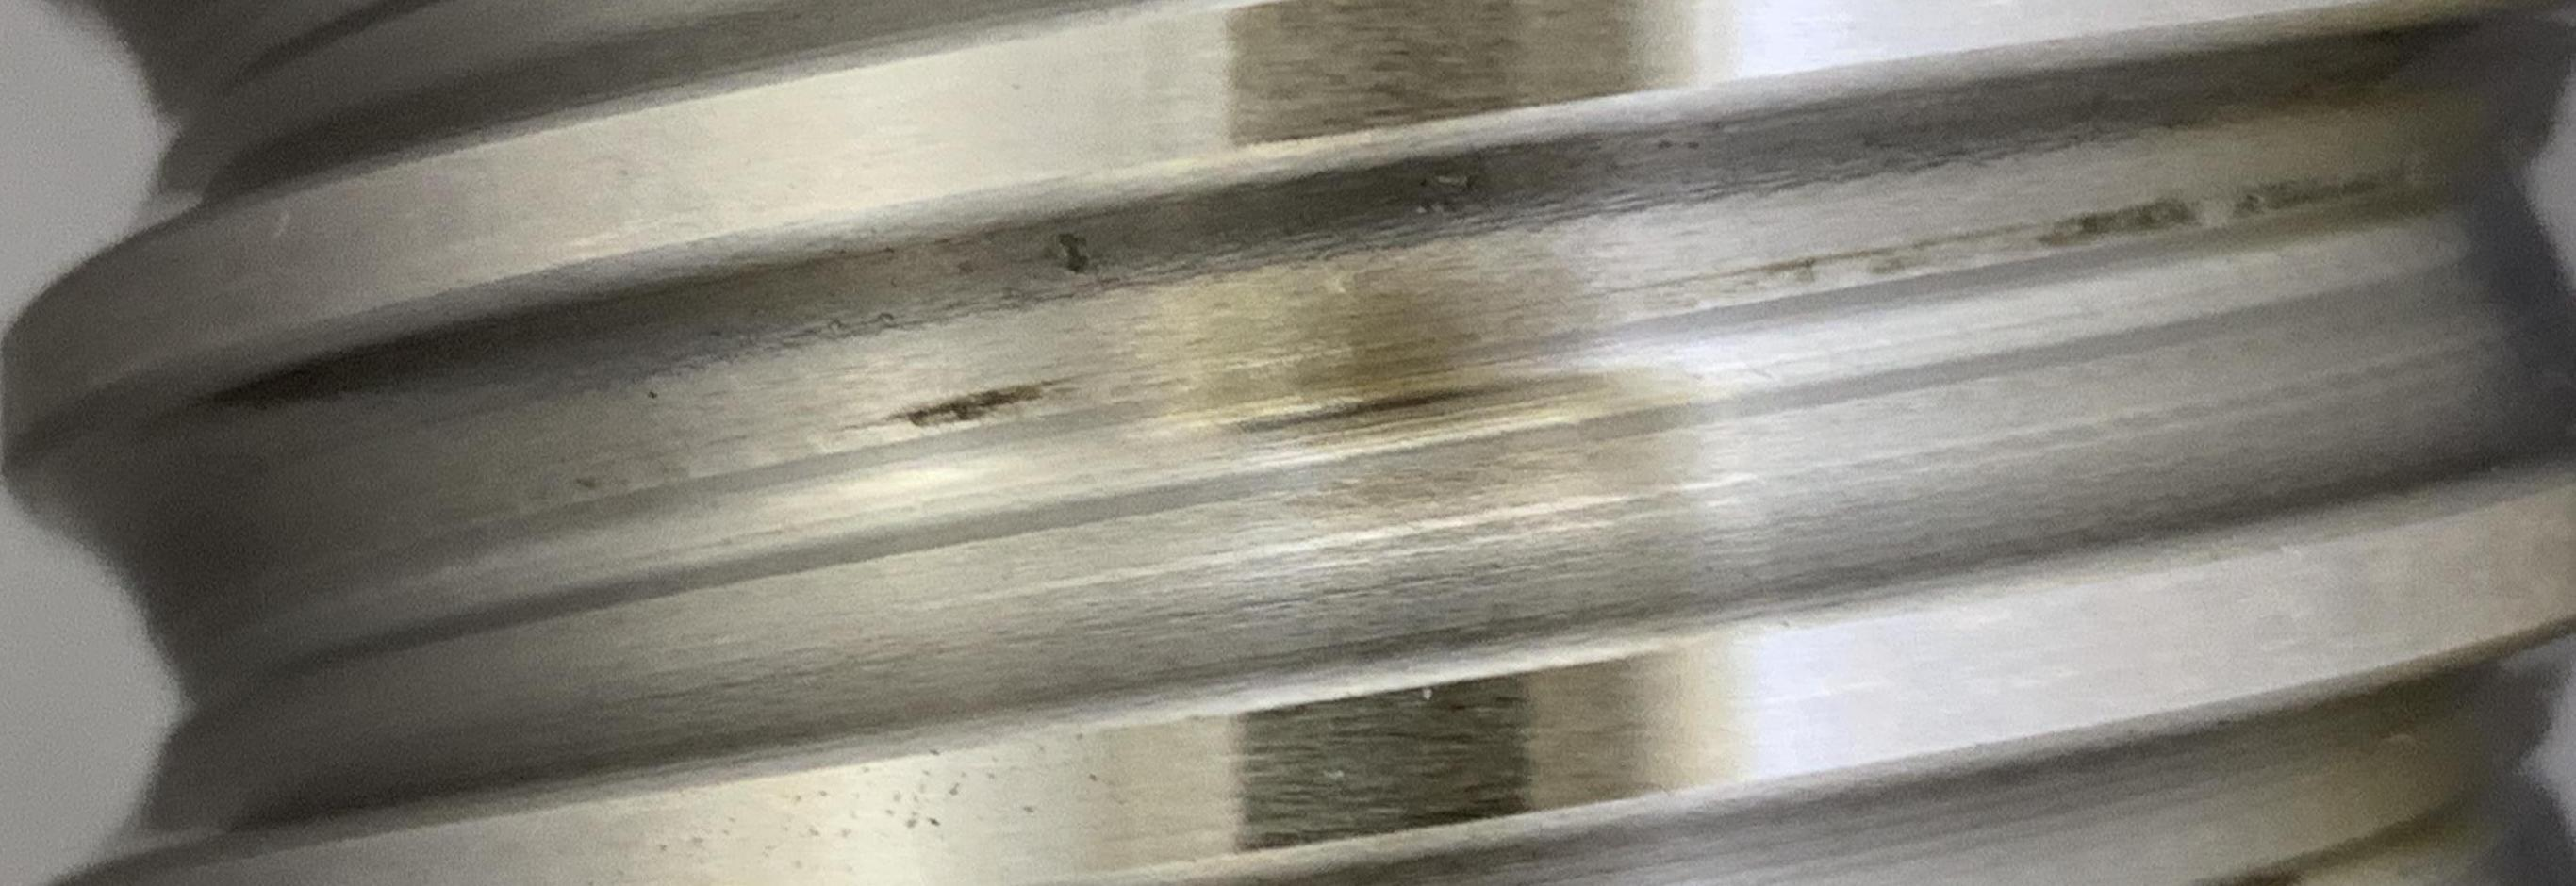pitting: (1058, 231, 1088, 274)
